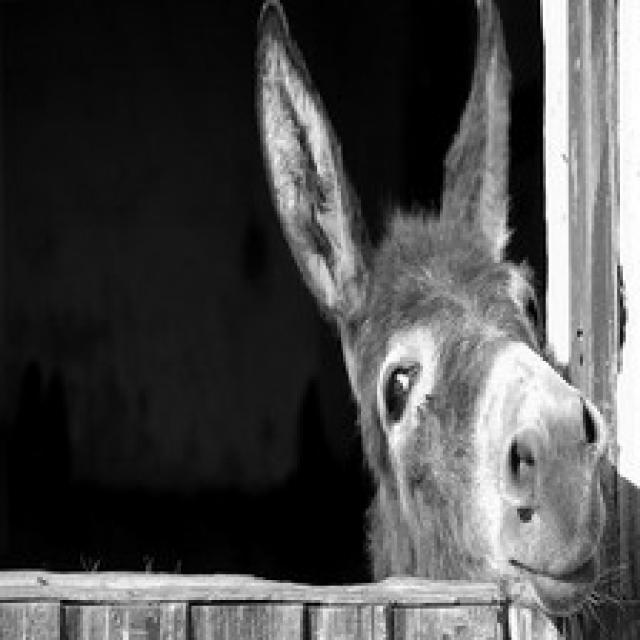Donkey: (252, 0, 637, 637)
